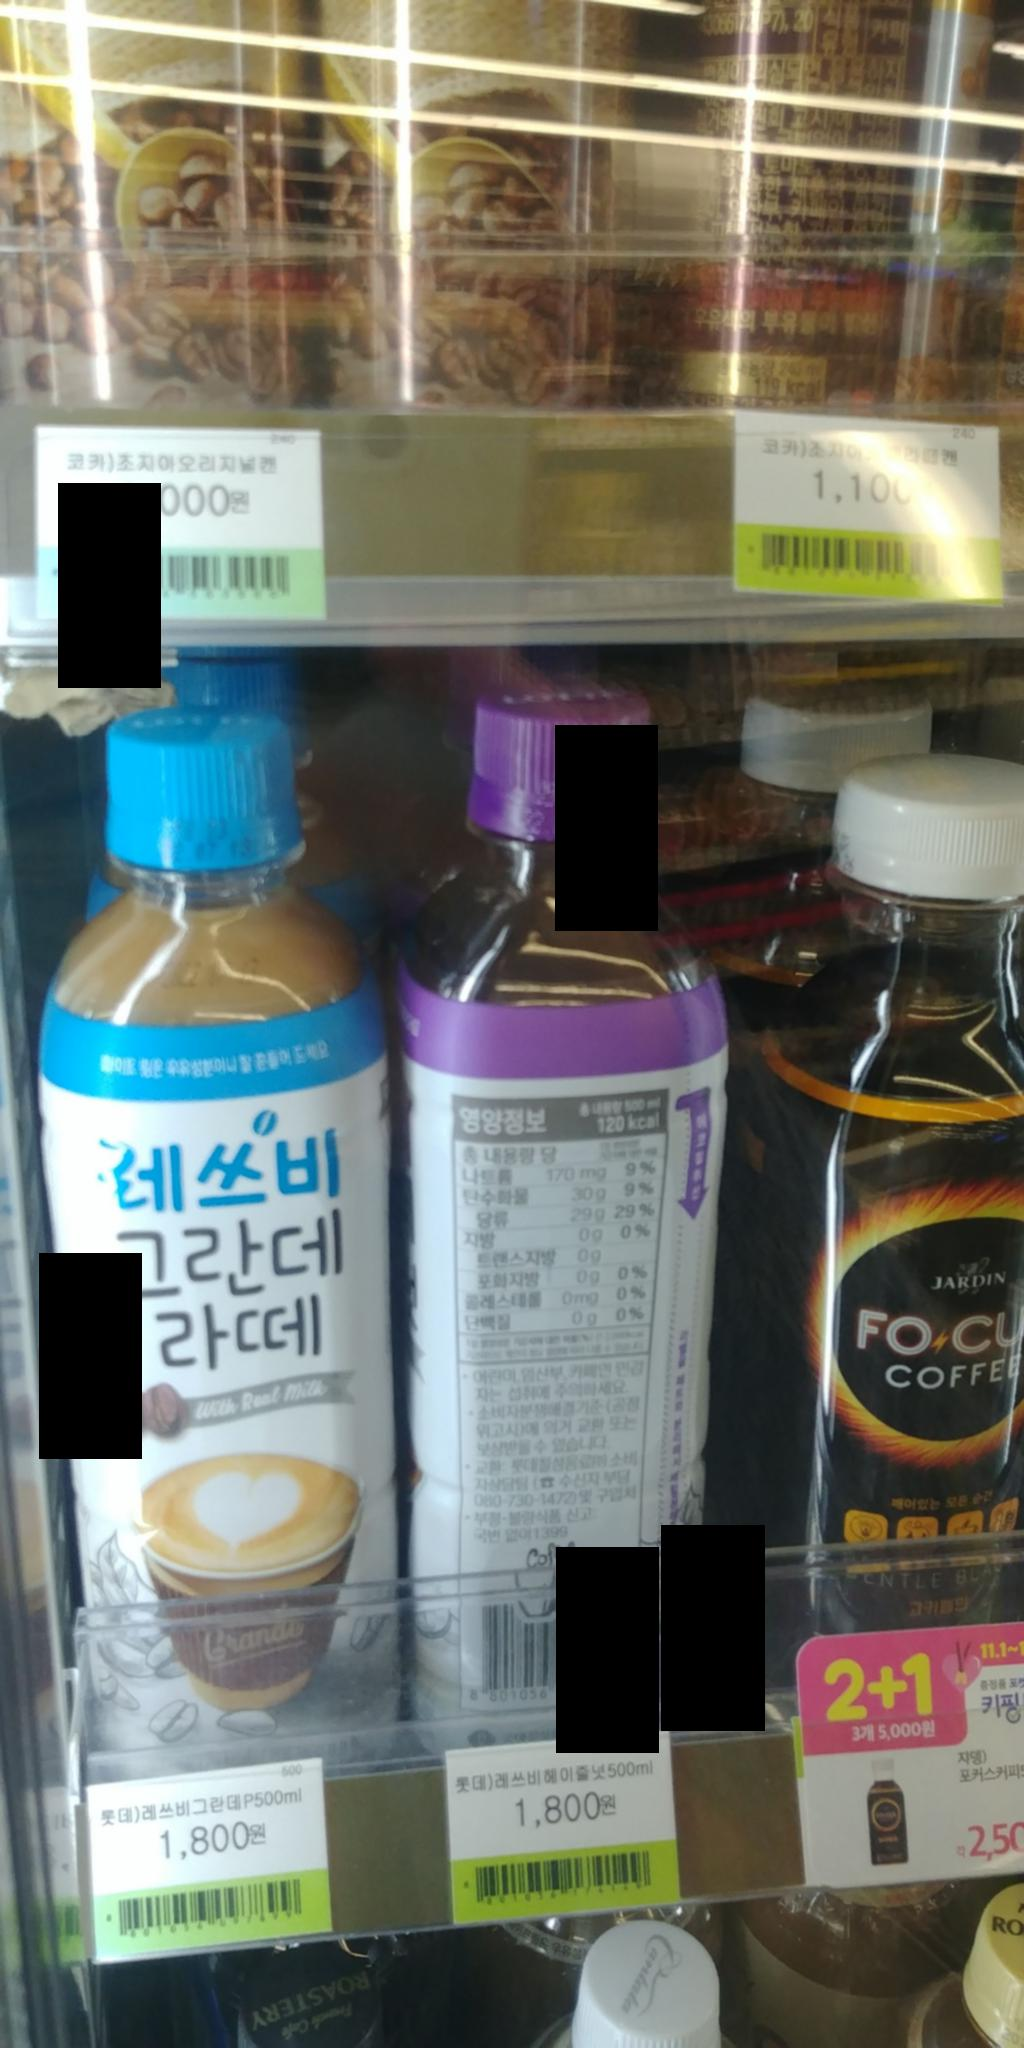letsbe_grande_hazelnut: (415, 699, 725, 1740)
